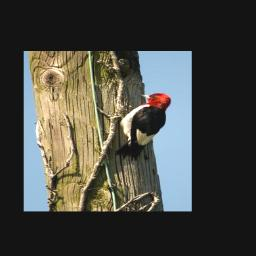Woodpecker: (107, 92, 173, 161)
